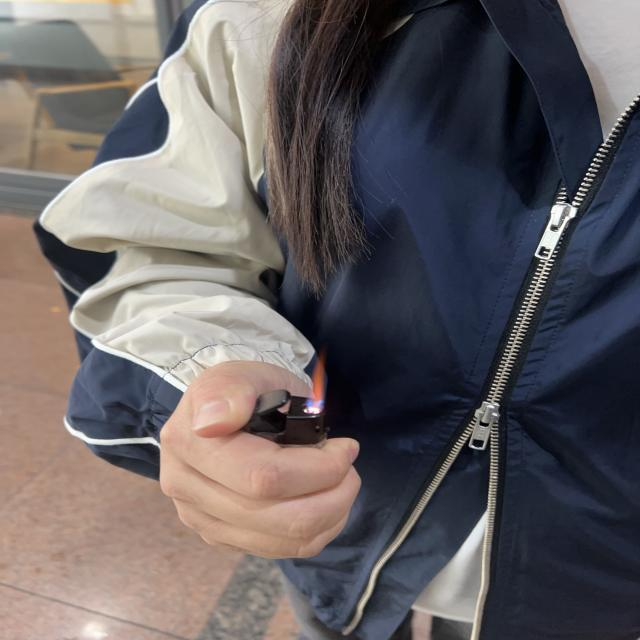fire: (308, 356, 328, 408)
